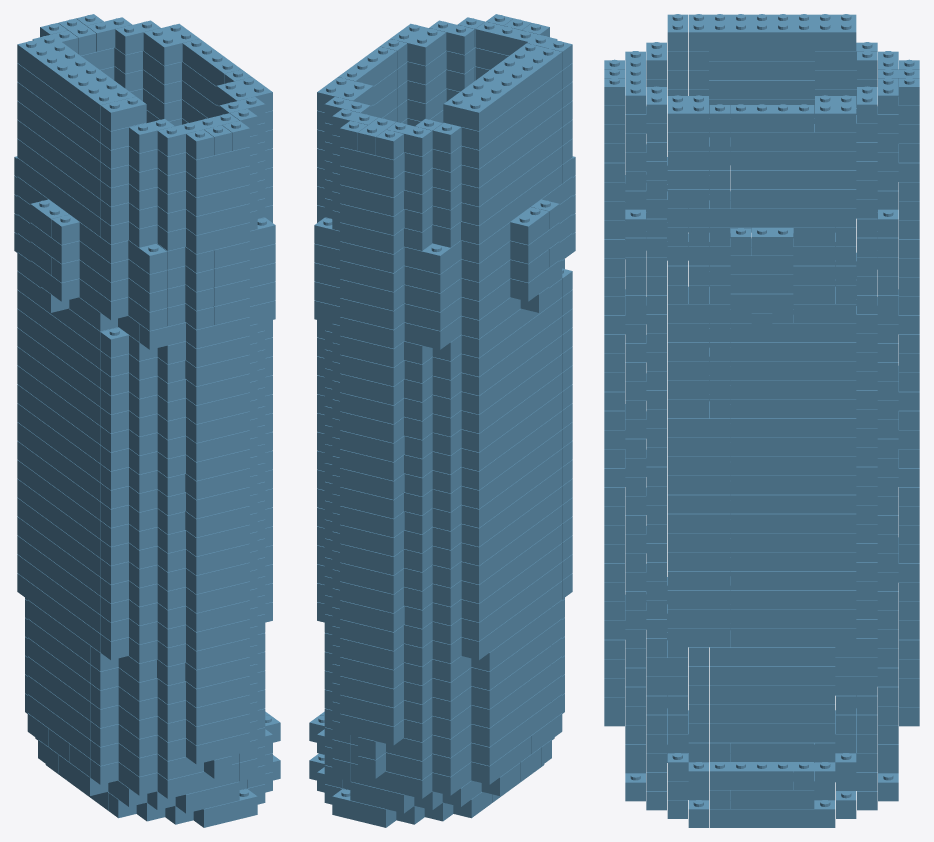
The model's file is 205_pot_L5.glb.
3 views of the same model, side by side, from view 1: azimuth 30°, elevation 25°; view 2: azimuth 150°, elevation 25°; view 3: azimuth 270°, elevation 25° (orthographic).
Size of the model in its own units: 10.98 by 38.13 by 14.98.
